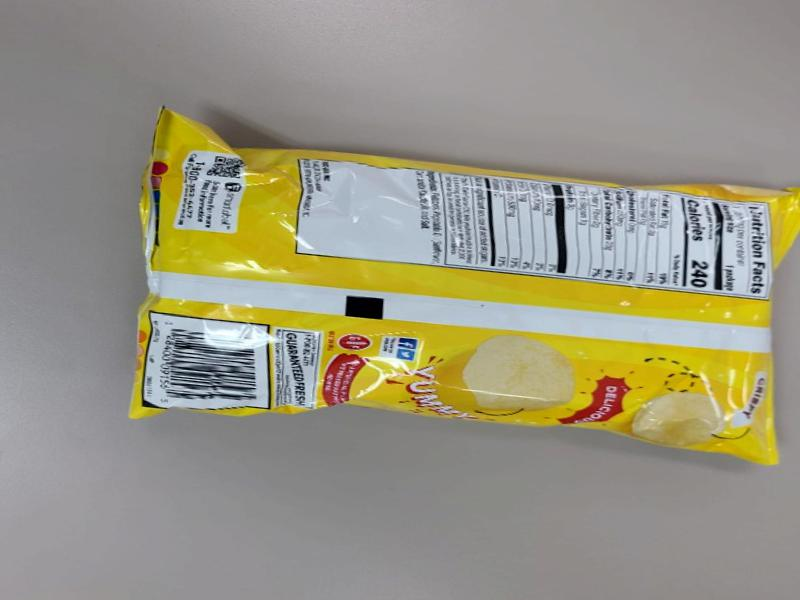lays: (23, 116, 792, 450)
